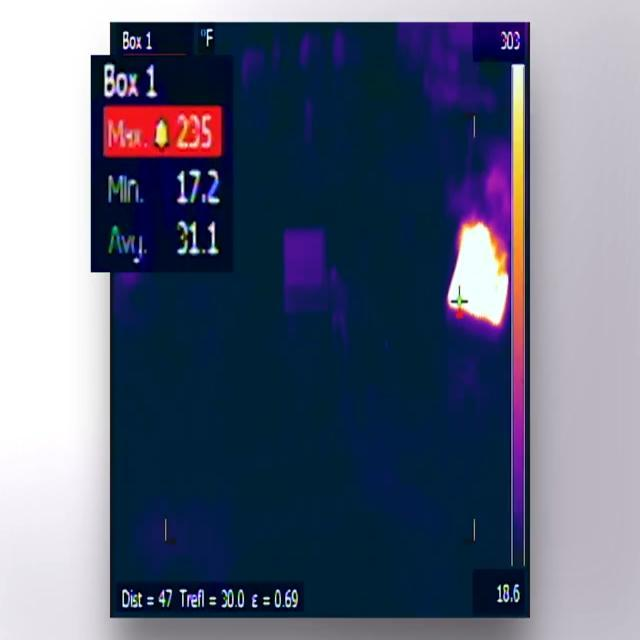fire: (447, 220, 511, 329)
